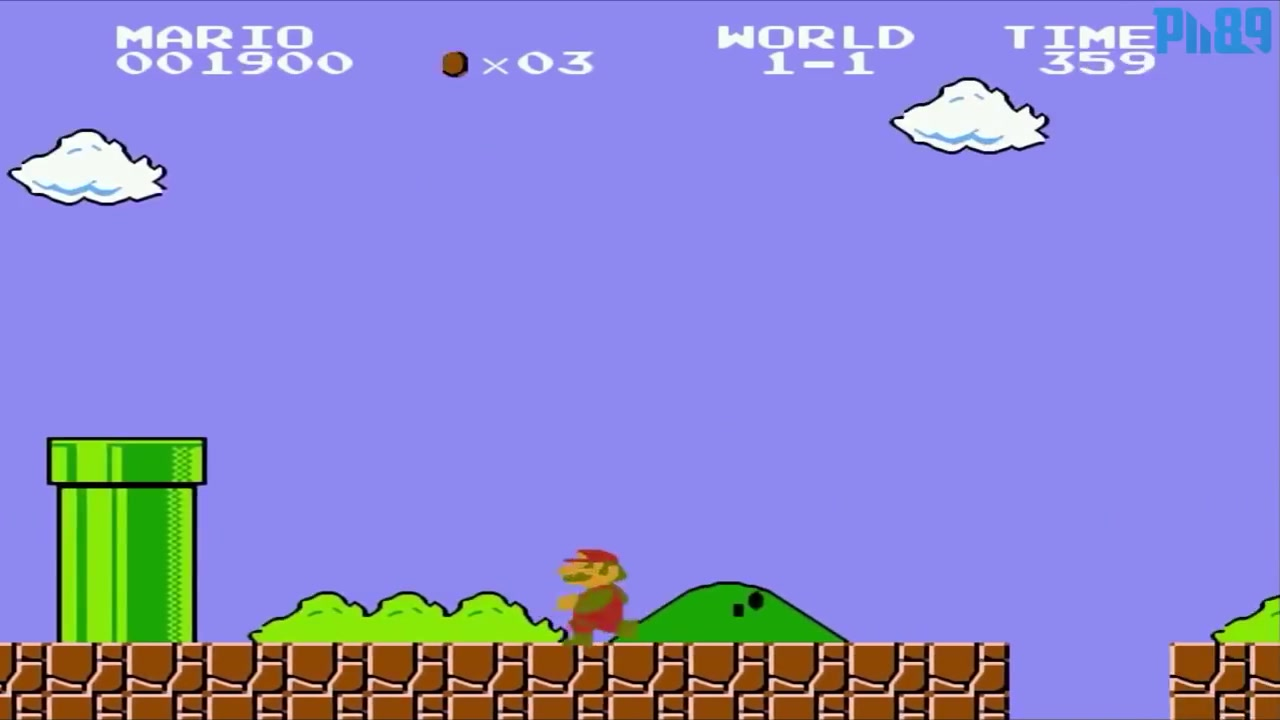mario: (545, 541, 643, 649)
